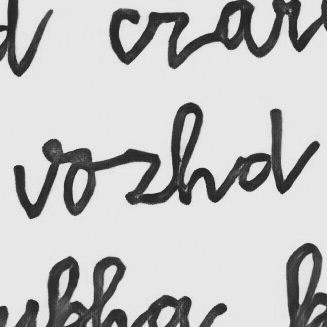d: (234, 107, 286, 195)
h: (168, 100, 220, 207)
o: (62, 159, 99, 219)
v: (11, 157, 60, 221)
z: (117, 146, 163, 206)
